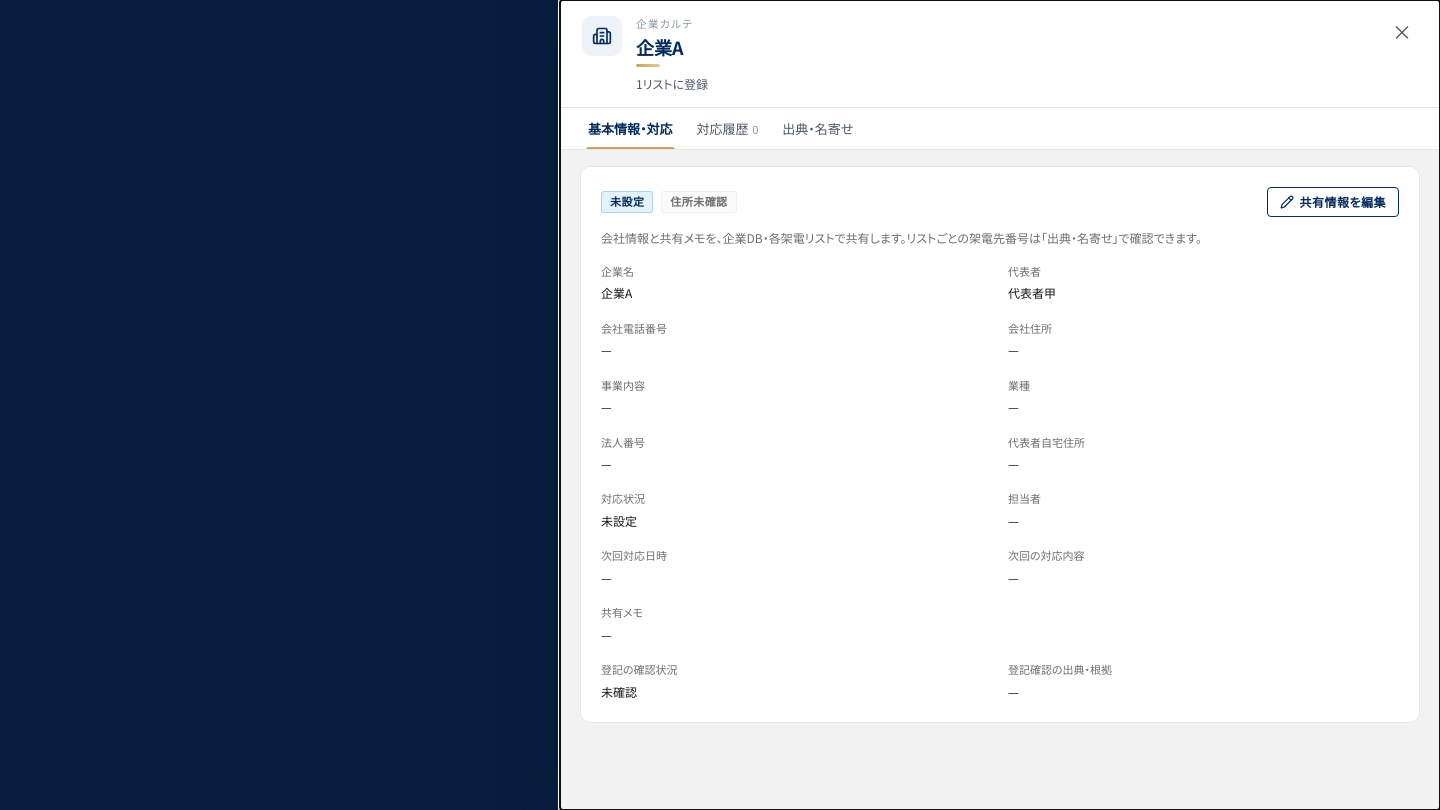
Scenario: 企業カルテの共有編集 › 同時更新のエラー時は入力を残し、再読み込みの選択を示す
Click the button "共有情報を編集" at x=1333, y=202, box [1267,187,1399,217]
(page scrolled)
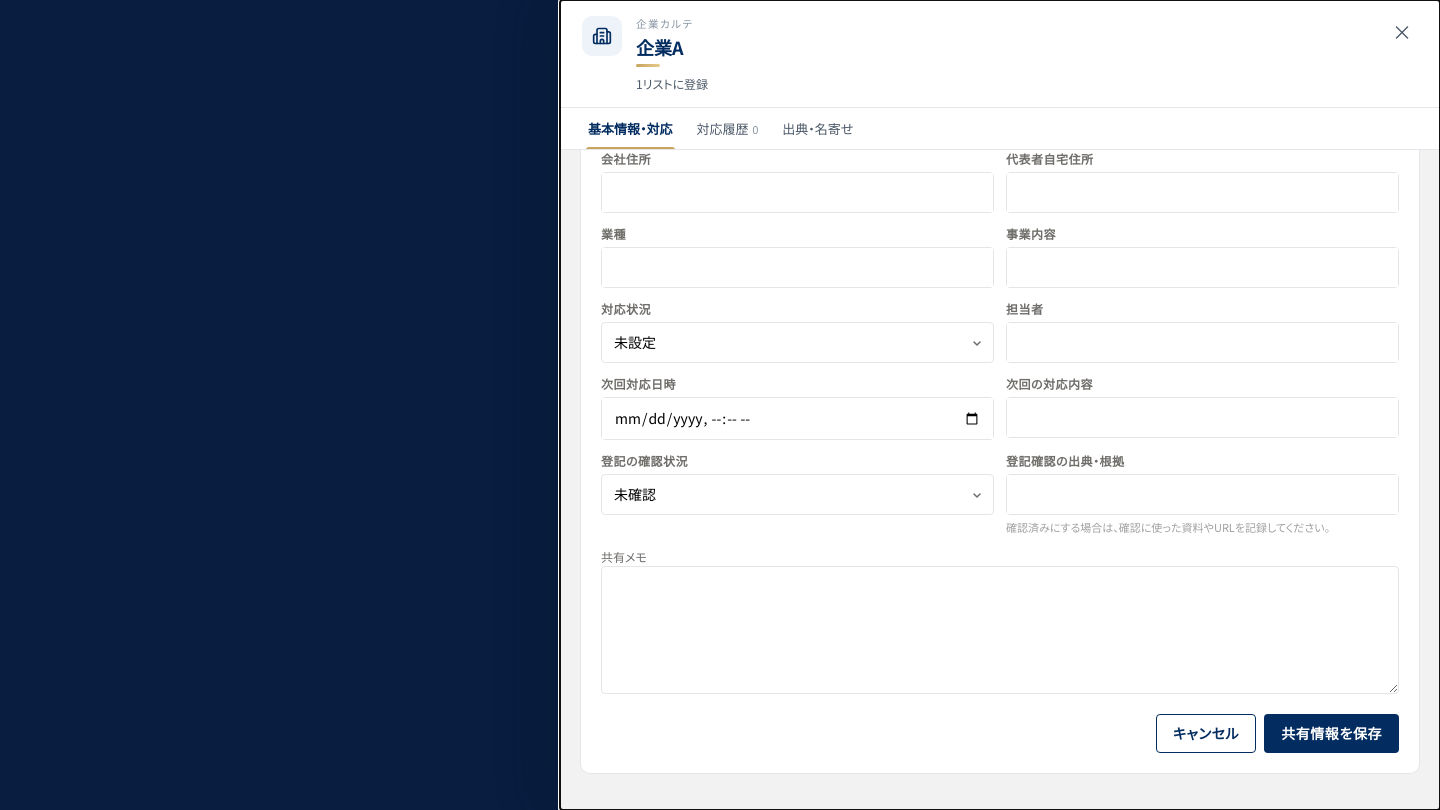
Type "入力を保持" into the text box labelled "共有メモ" at x=1000, y=630, box [601,566,1399,694]
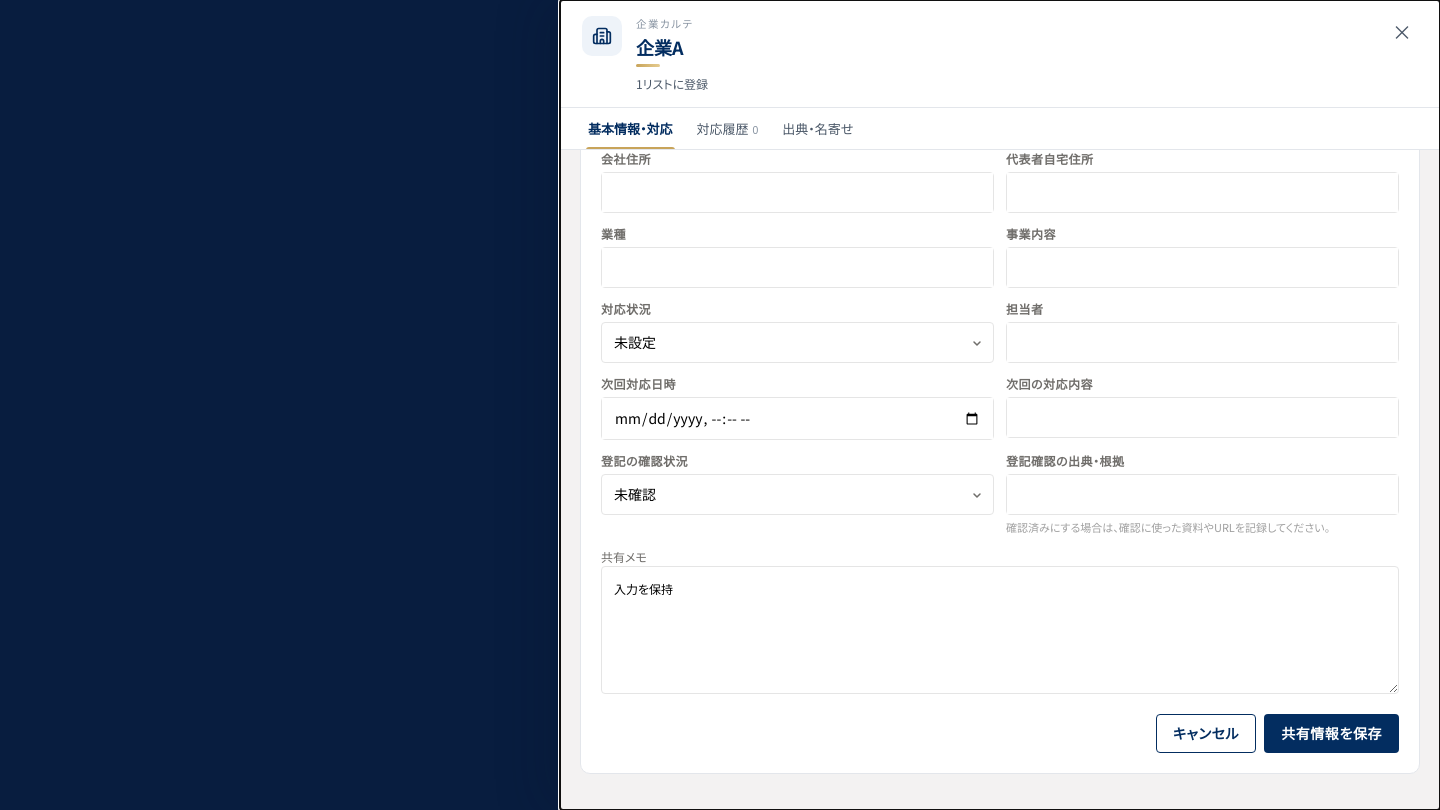
Click the button "共有情報を保存" at x=1332, y=733, box [1264,714,1399,753]
(page scrolled)
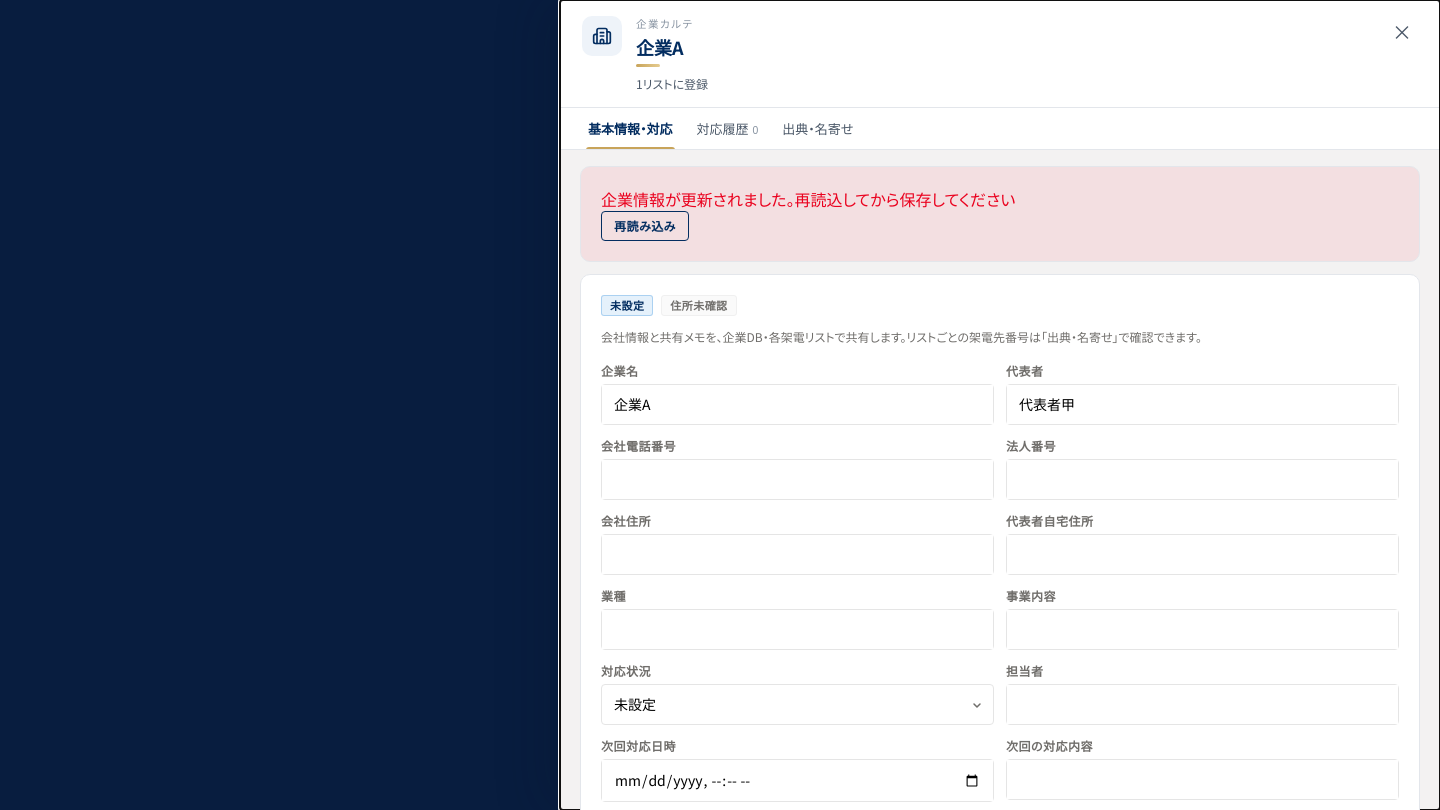
Check: the button "再読み込み" is shown, box [601,211,689,241]
